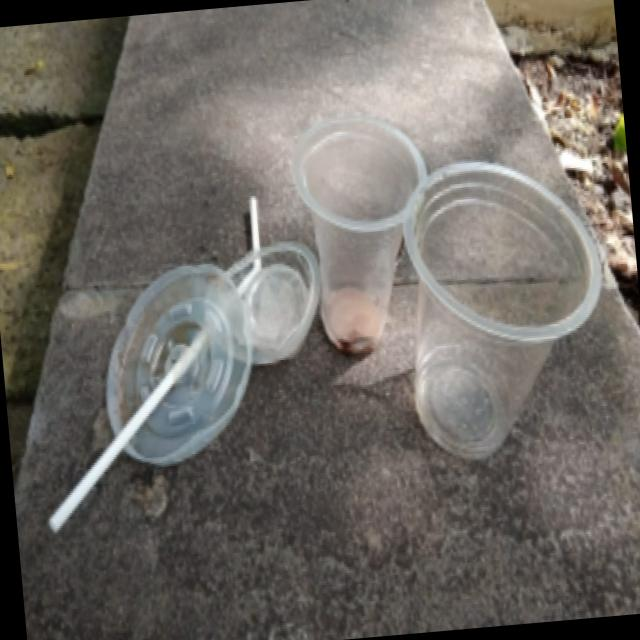GelasPlastik: (392, 148, 619, 466), (289, 108, 437, 356)
